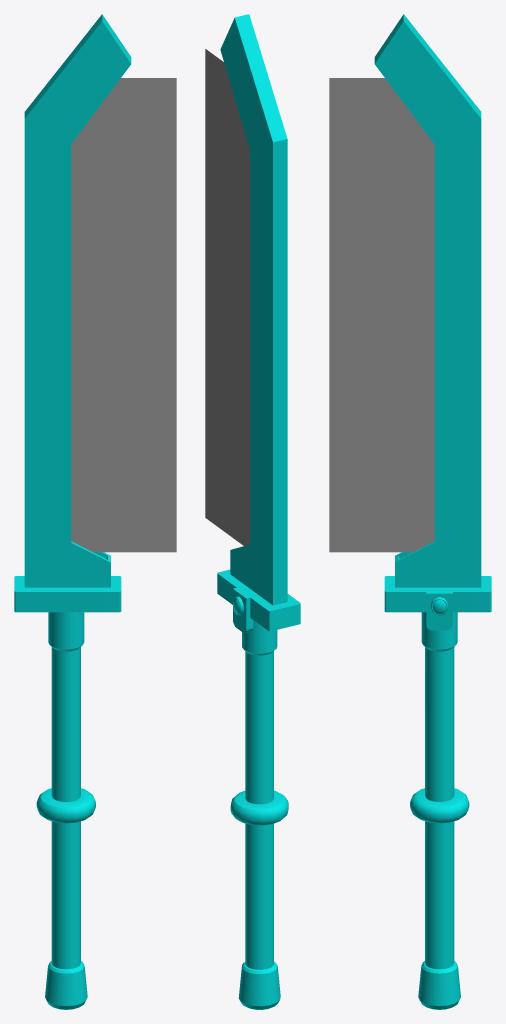
Rendered from Protagonist_Sword.fbx.
3 views of the same model, side by side, from view 1: azimuth 90°, elevation 25°; view 2: azimuth 210°, elevation 25°; view 3: azimuth 270°, elevation 25° (orthographic).
Visible parts, largest first — view 1: pPlane1, Blade, pPlane2; view 2: Blade, pPlane1, pPlane2; view 3: pPlane1, Blade, pPlane2.
Boxes of the visible parts, x1,y1,x2,y2 form: pPlane1: (71,78,176,552); Blade: (14,14,131,1009); pPlane2: (71,78,176,551); Blade: (217,14,300,1009); pPlane1: (205,49,249,545); pPlane2: (205,52,249,545); pPlane1: (329,78,434,552); Blade: (374,14,491,1009); pPlane2: (329,78,434,551).
Bounding box in the file's own units: 7.35 × 135 × 20.07.
